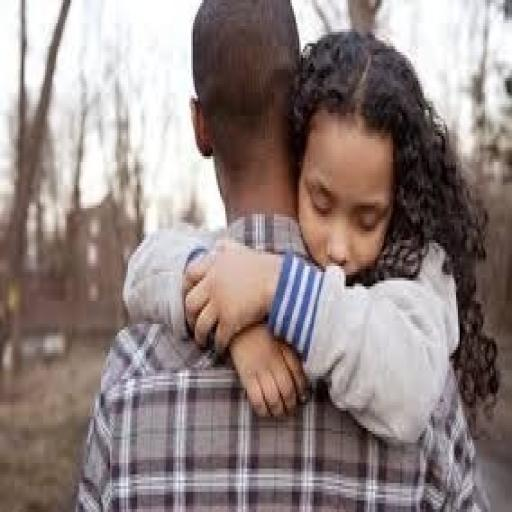hugging: (74, 3, 496, 509)
